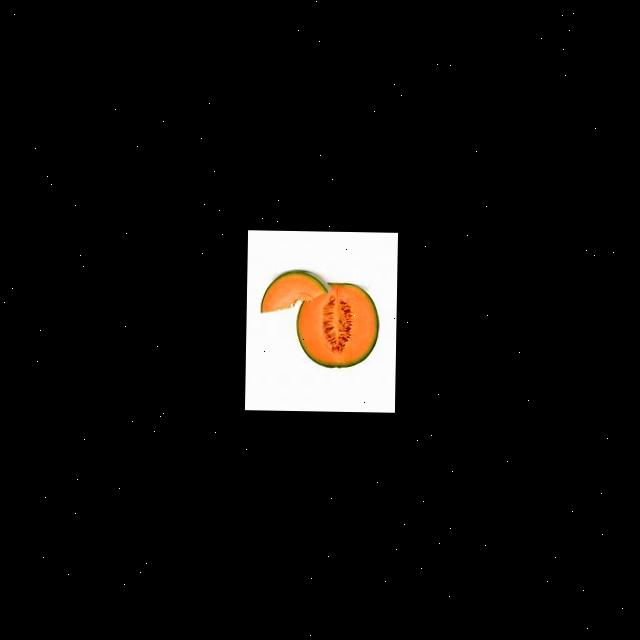Hami Melon: (294, 281, 380, 368), (258, 268, 328, 313)
